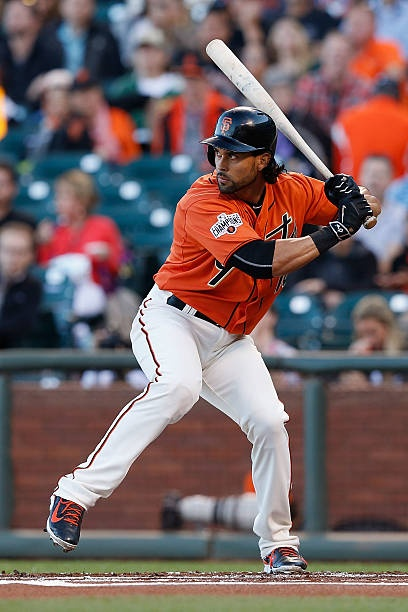bita: (208, 41, 342, 200)
